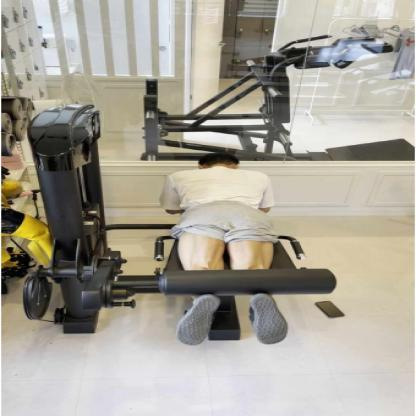reg curl machine: (12, 100, 342, 352)
